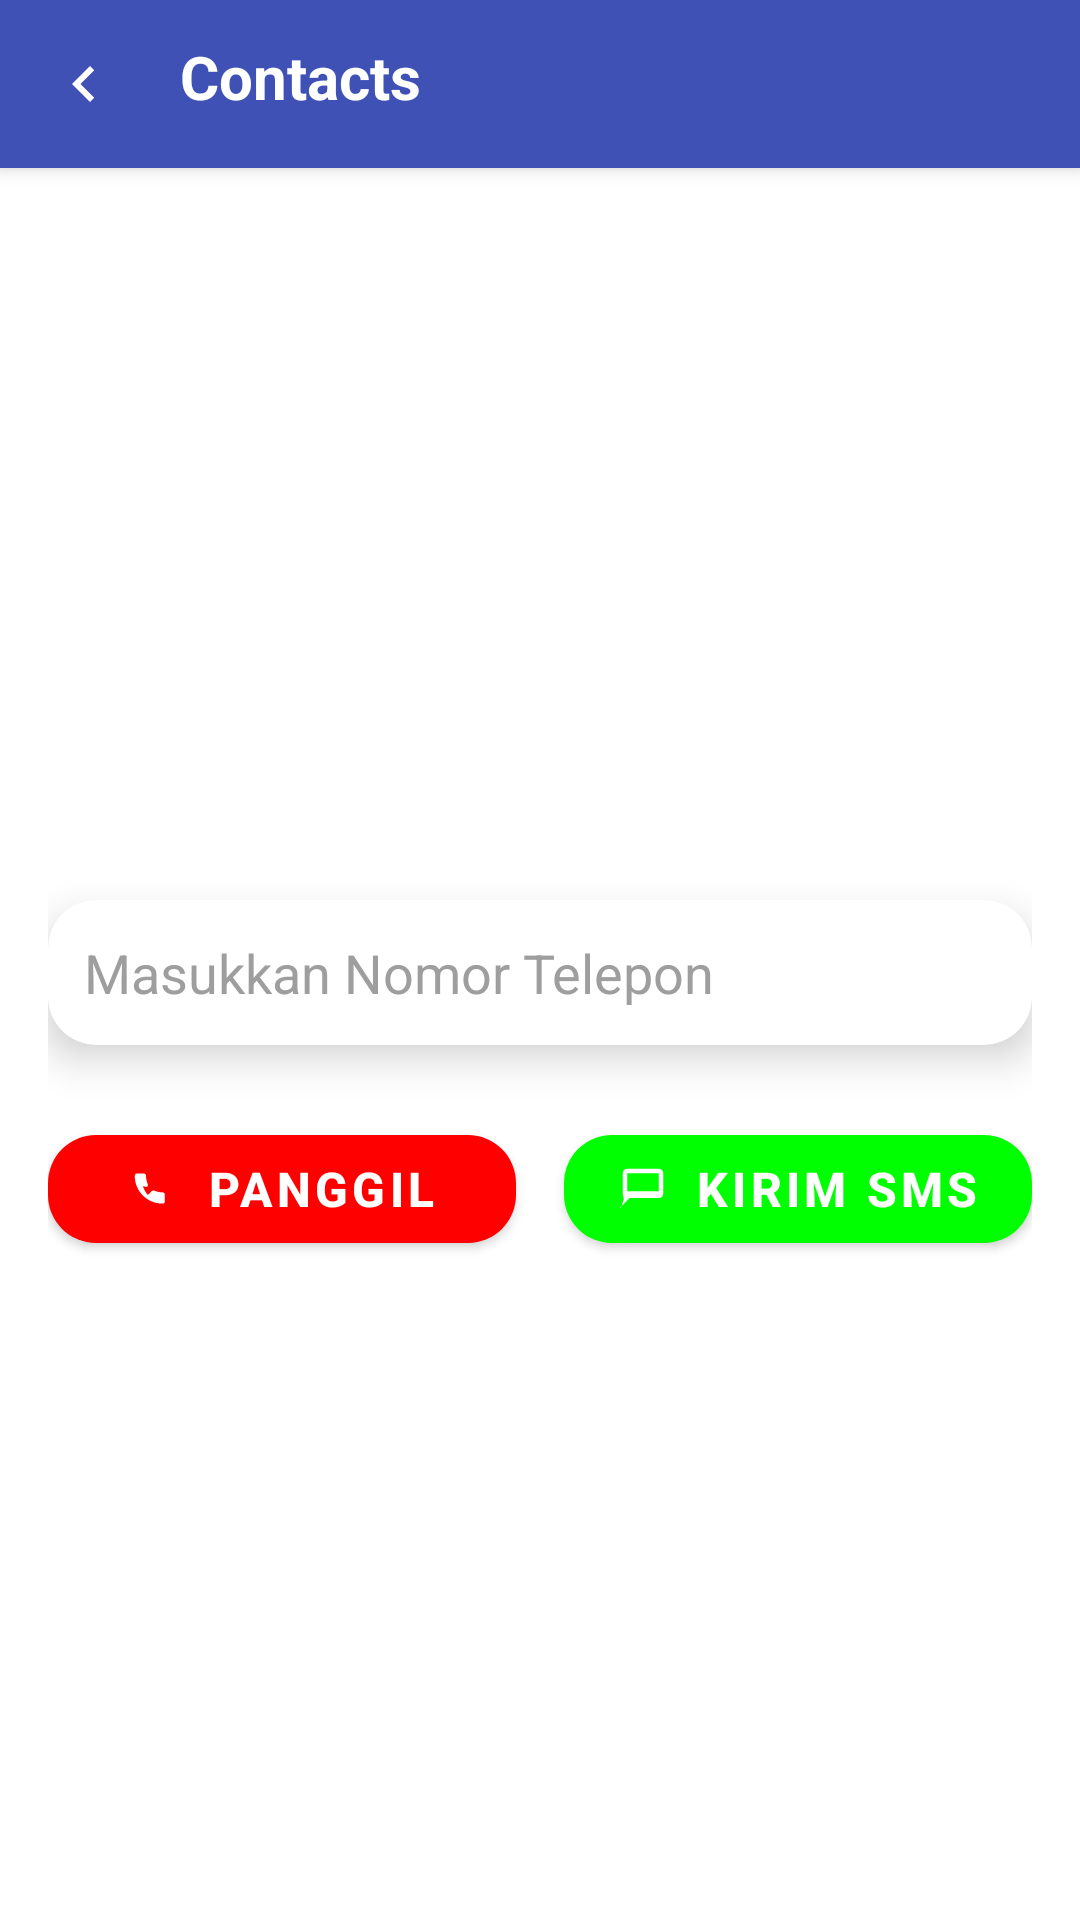

Locate icon controls on the screen. Image size 1080×1920, boxes as (x1, y1, x2, y2).
Kembali: (72, 66, 94, 102)
